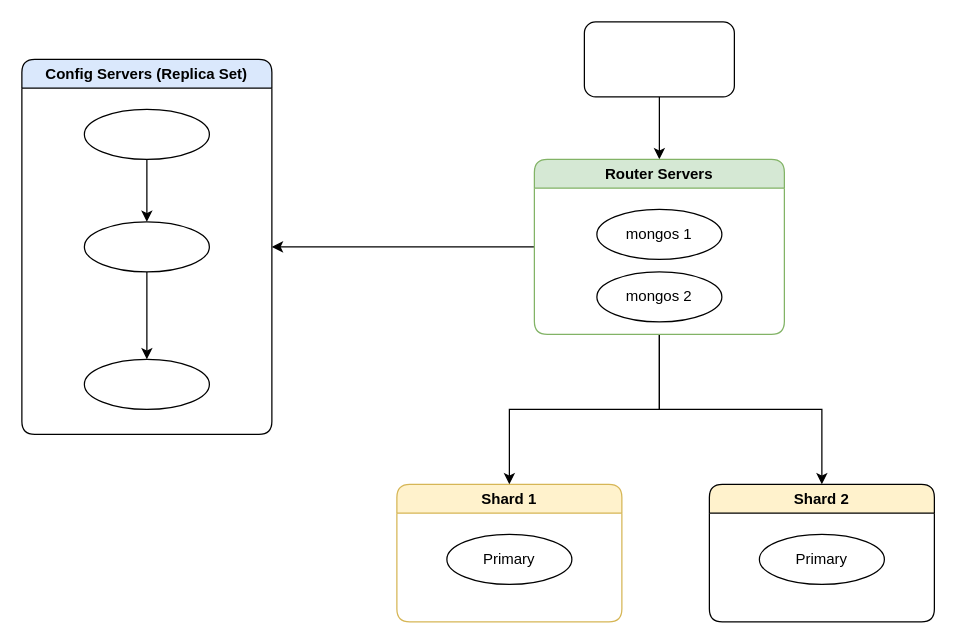
Some shapes in this 956 by 644 pixel diagram are drawn without their labels. Each missing label, with the centre of its shape:
"configSrv Primary" belongs at (x=146, y=133).
"configSrv Secondary 1" belongs at (x=146, y=246).
"configSrv Secondary 2" belongs at (x=146, y=383).
"pymongo-api" belongs at (x=658, y=59).
